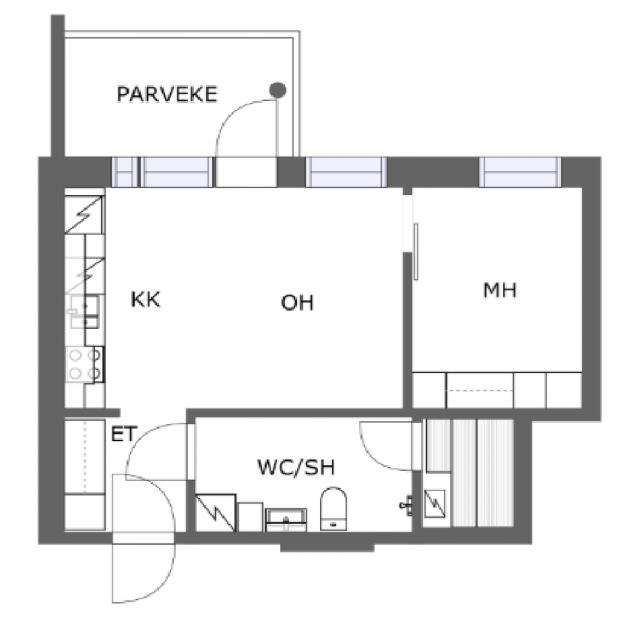door: (217, 100, 277, 187), (113, 532, 175, 602), (113, 474, 175, 544), (127, 424, 195, 479), (362, 422, 422, 470)
